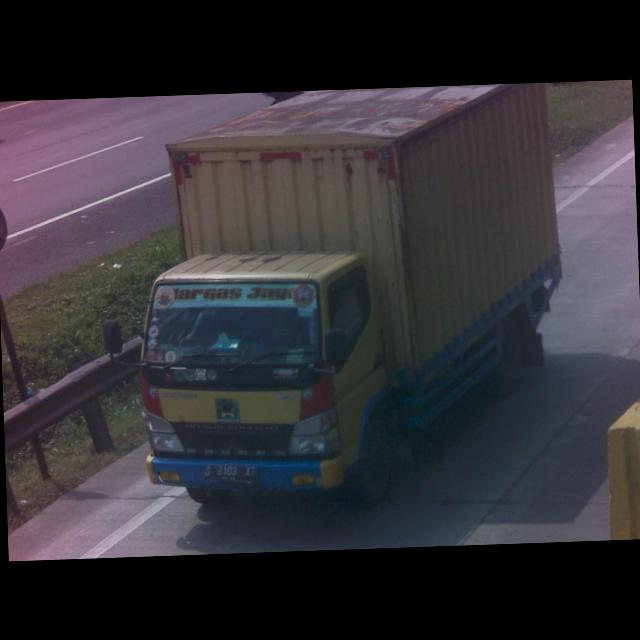plate: (200, 462, 257, 484)
